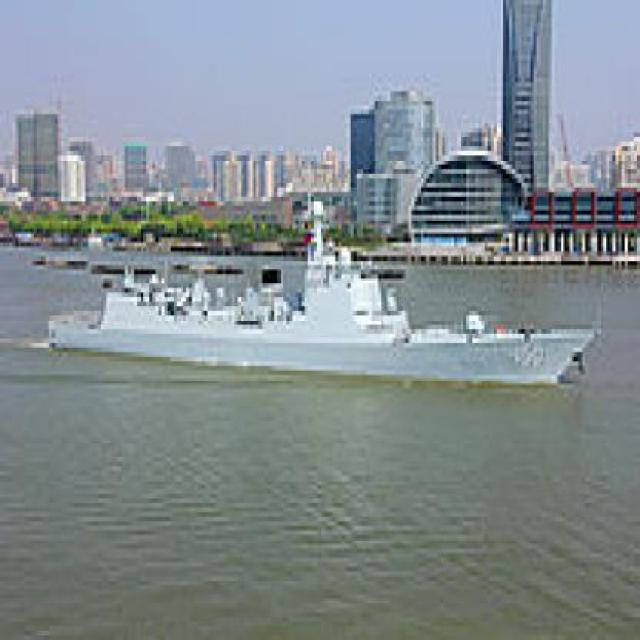warship2: (29, 165, 601, 399)
